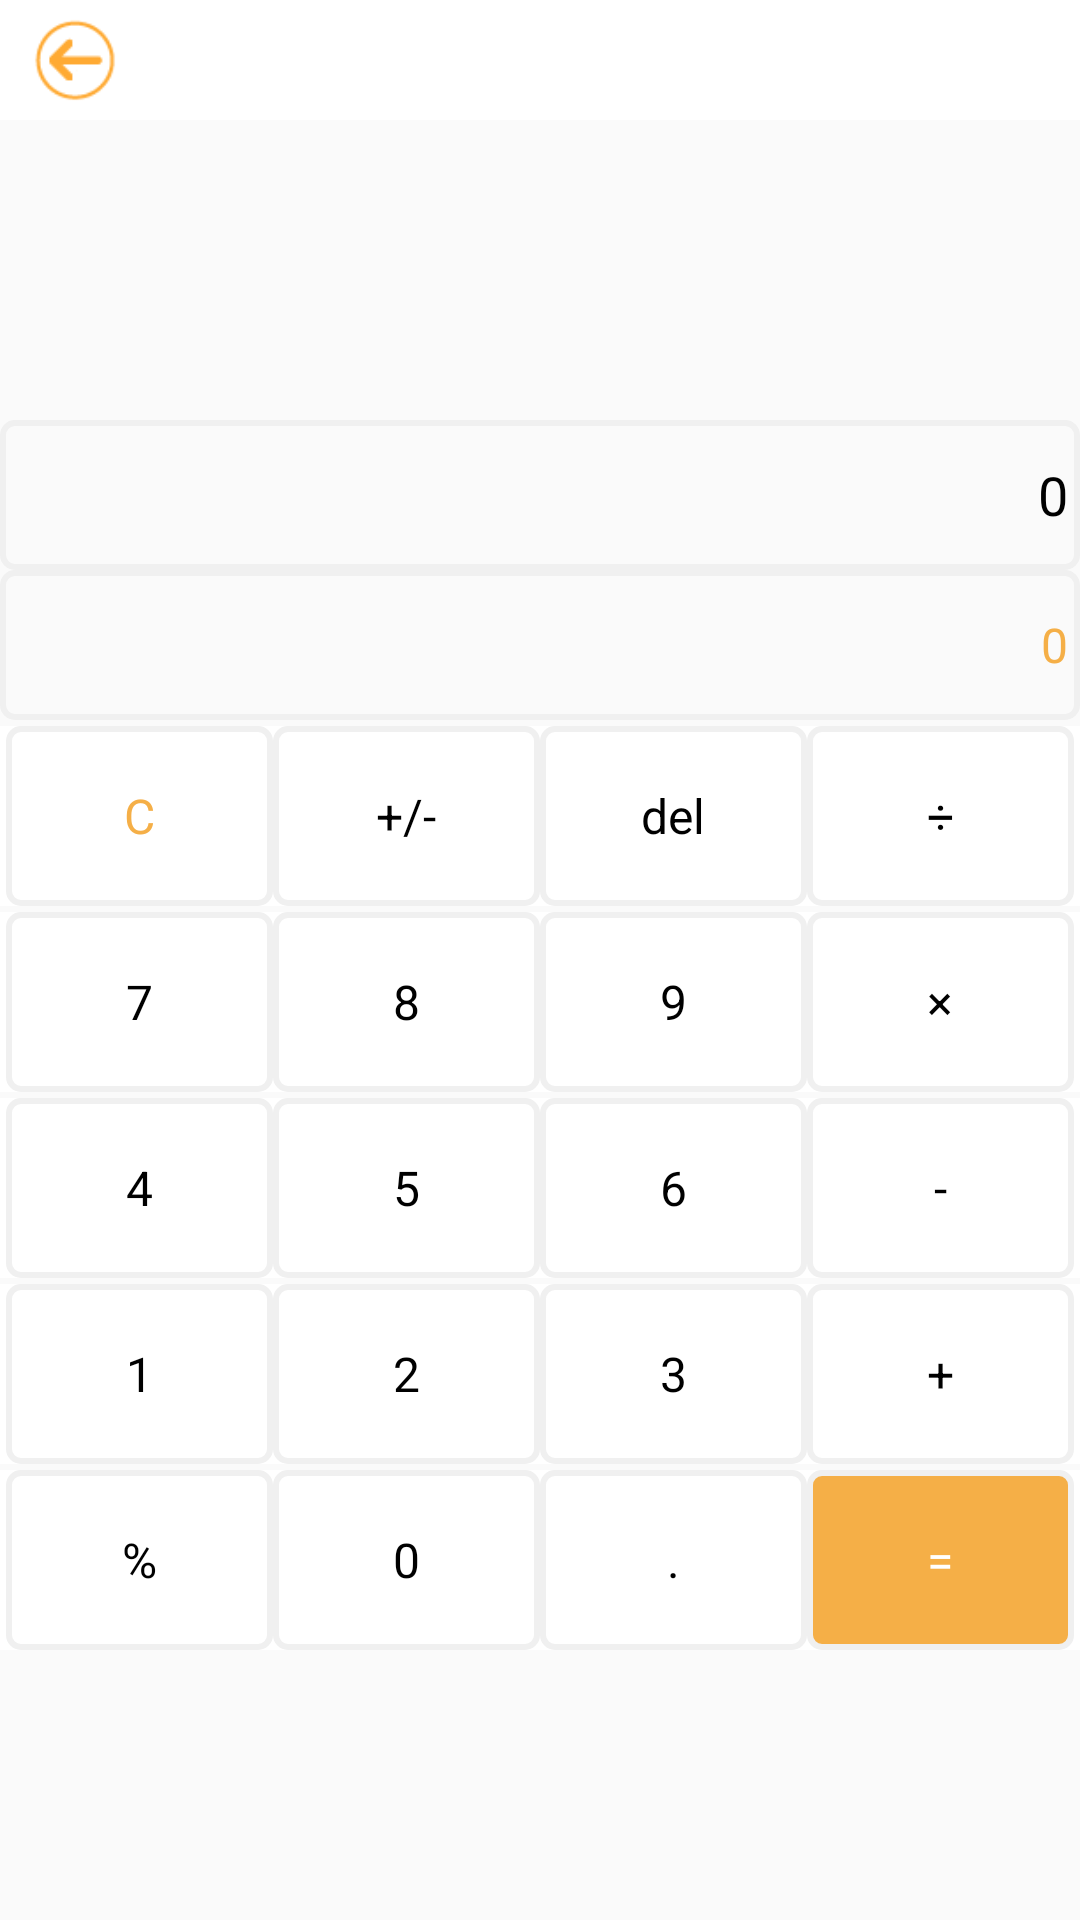

Point at icon controls on the screen. Image size 1080 x 1920, points as point (x, y).
back: point (75, 60)
